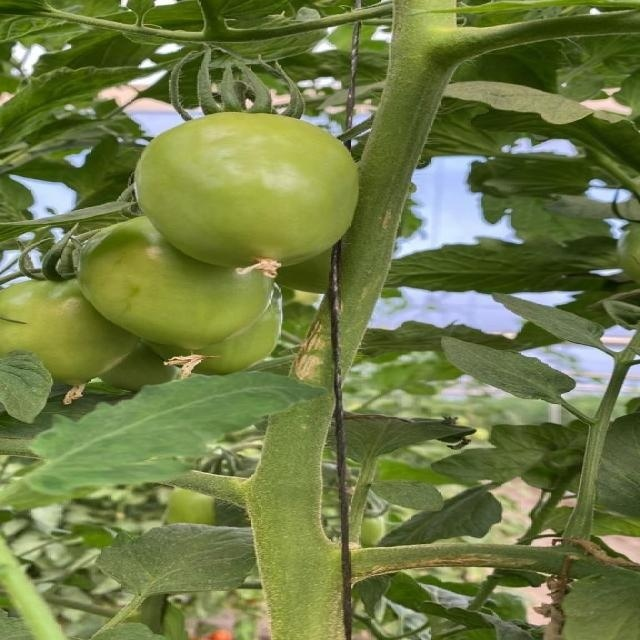T_F_H: (137, 114, 359, 268), (79, 217, 274, 350), (1, 280, 139, 386), (148, 290, 283, 376)
T_L_H: (28, 374, 325, 495)
T_L_R: (97, 525, 257, 630)
T_S_R: (341, 1, 639, 364), (248, 399, 345, 640), (354, 545, 570, 580)
